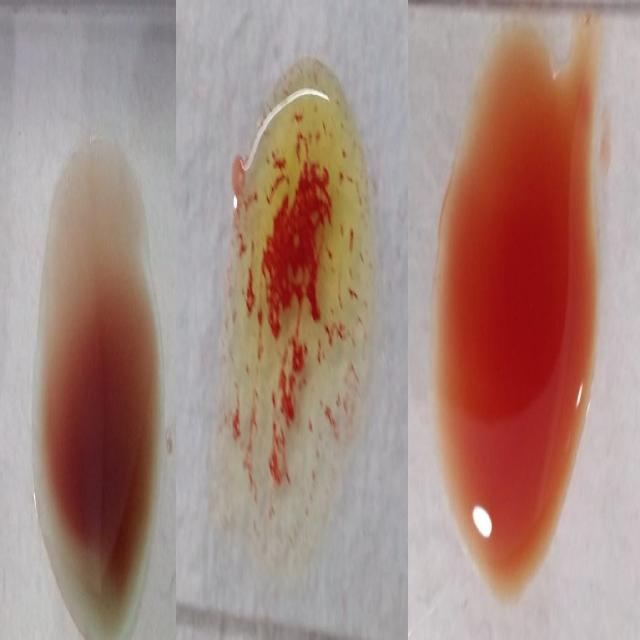B: (223, 77, 372, 528)
